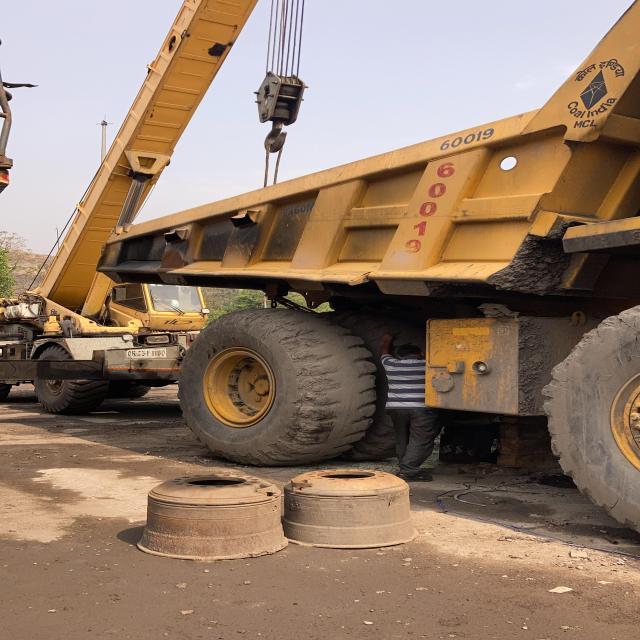dump_truck: (117, 0, 640, 527)
